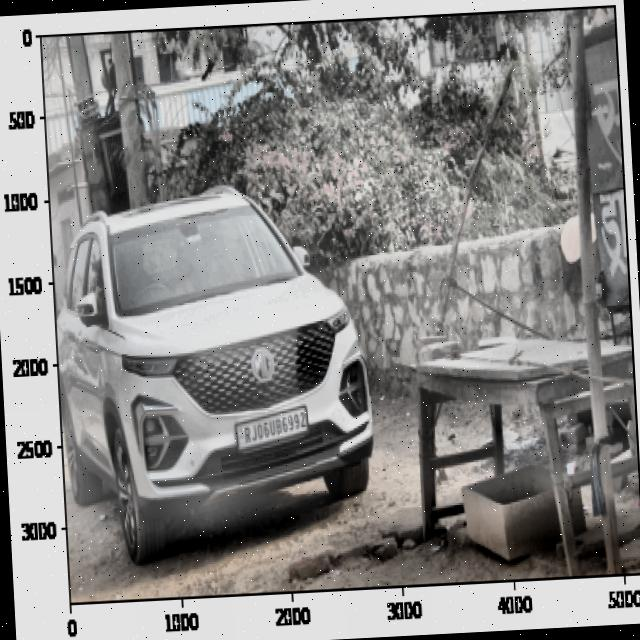license_plate: (241, 406, 312, 448)
